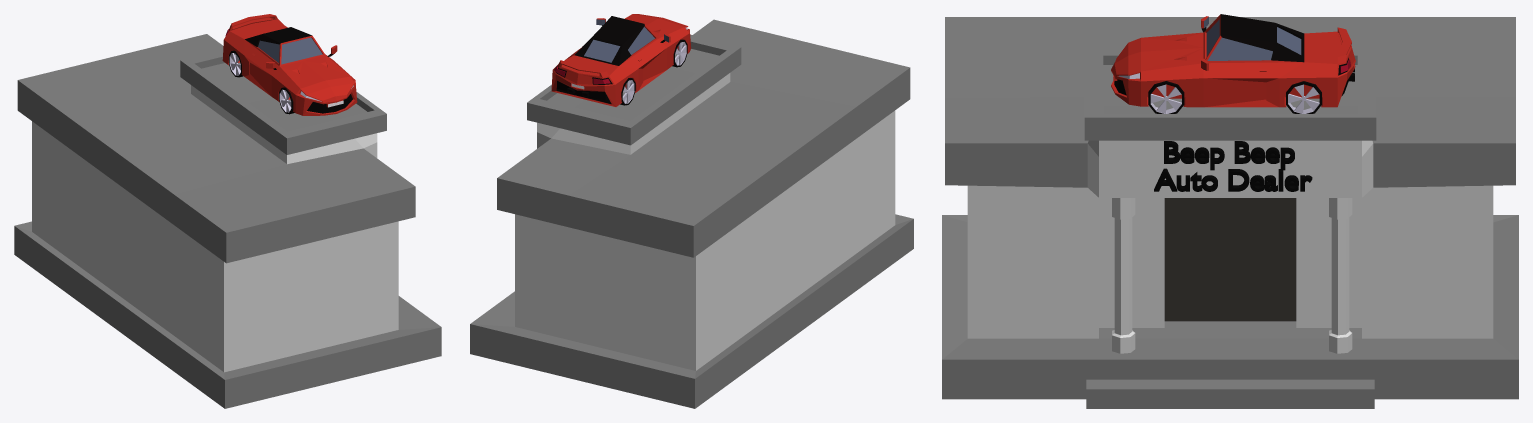
The model's file is CarDealer.fbx.
3 views of the same model, side by side, from view 1: azimuth 30°, elevation 25°; view 2: azimuth 150°, elevation 25°; view 3: azimuth 270°, elevation 25° (orthographic). The views are drawn at different scales.
Parts seen in each view (by area): view 1: Cube_Cube.001, Sports; view 2: Cube_Cube.001, Sports; view 3: Cube_Cube.001, Sports, Text.011, Sports wheel front left, Sports wheel rear left.
Part boxes in pixels (bbox=[...]): Cube_Cube.001: bbox=[14, 34, 441, 408]; Sports: bbox=[222, 14, 357, 115]; Cube_Cube.001: bbox=[470, 19, 913, 408]; Sports: bbox=[551, 14, 691, 106]; Cube_Cube.001: bbox=[942, 17, 1518, 408]; Sports: bbox=[1111, 14, 1355, 107]; Text.011: bbox=[1154, 141, 1312, 191]; Sports wheel front left: bbox=[1148, 81, 1184, 113]; Sports wheel rear left: bbox=[1286, 81, 1321, 113].
Size of the model in its own units: 690 by 720 by 1089.
10 materials, 1 textured.
